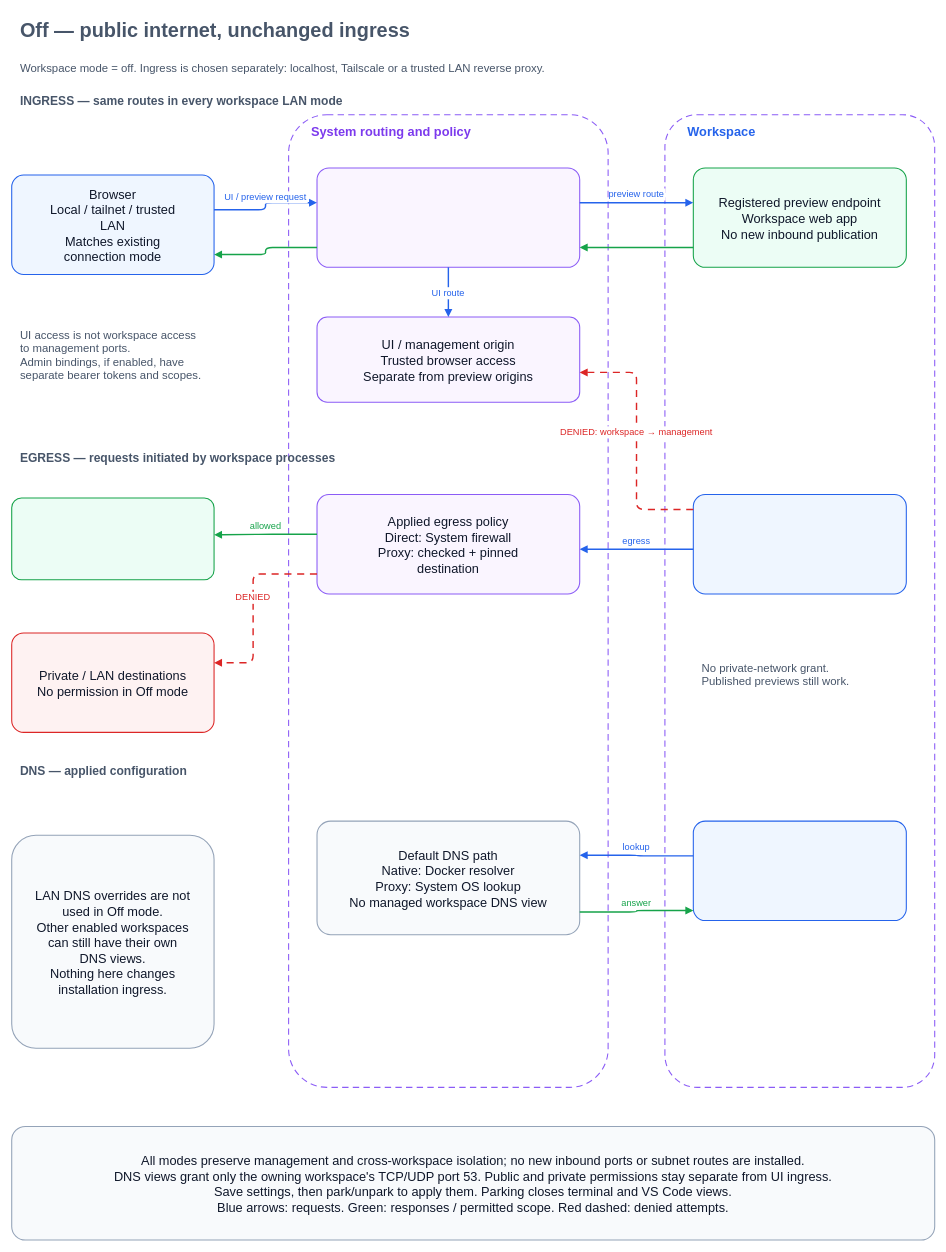
The diagram is 946 pixels wide and 1252 high, and some of its shapes have lost their labels. Each missing label, with the box of its shape:
Existing ingress Host loopback / Tailscale Serve or LAN reverse proxy → :3081: (316, 167, 580, 268)
Native DNS clients Egress proxy uses the same applied DNS configuration: (692, 820, 907, 921)
Processes + agents Direct + proxied traffic Persistent workspace setting: (692, 494, 907, 594)
Public internet Enabled in all three modes: (11, 497, 214, 580)
